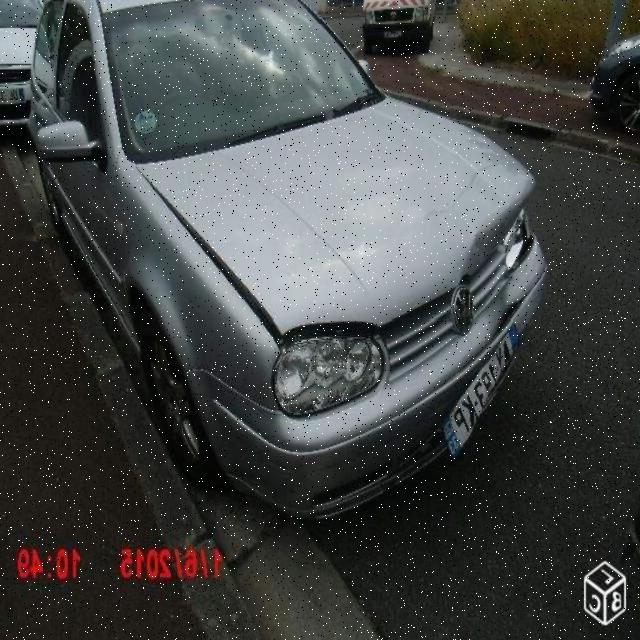damage: (464, 182, 544, 328)
